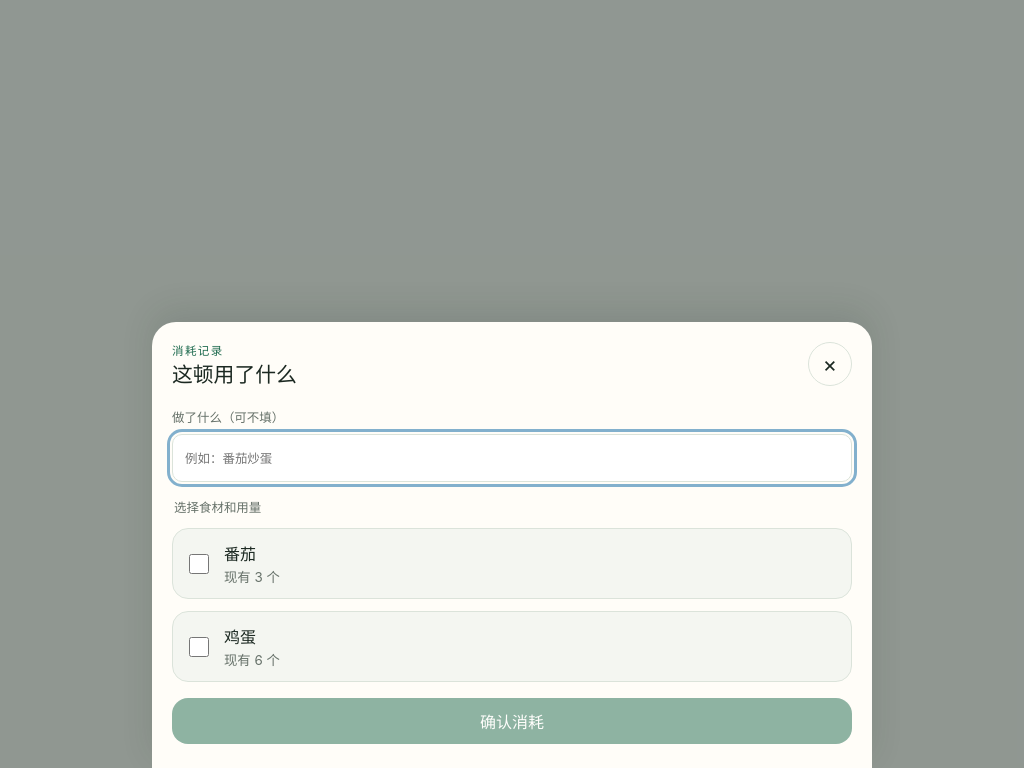
Test: ConsumeSheet › 禁用超过库存的消耗提交
Click the checkbox named "选择番茄" at (199, 564), box [189,554,209,574]
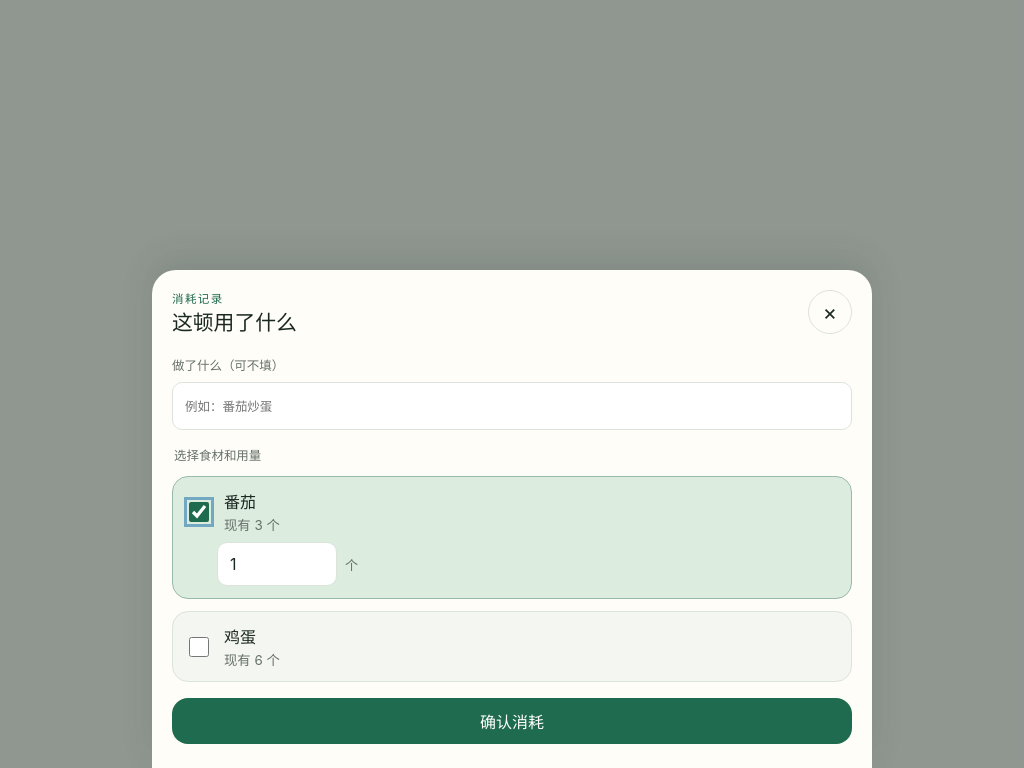
Clear the number field named "番茄用量" at (277, 564), box [217,542,337,586]
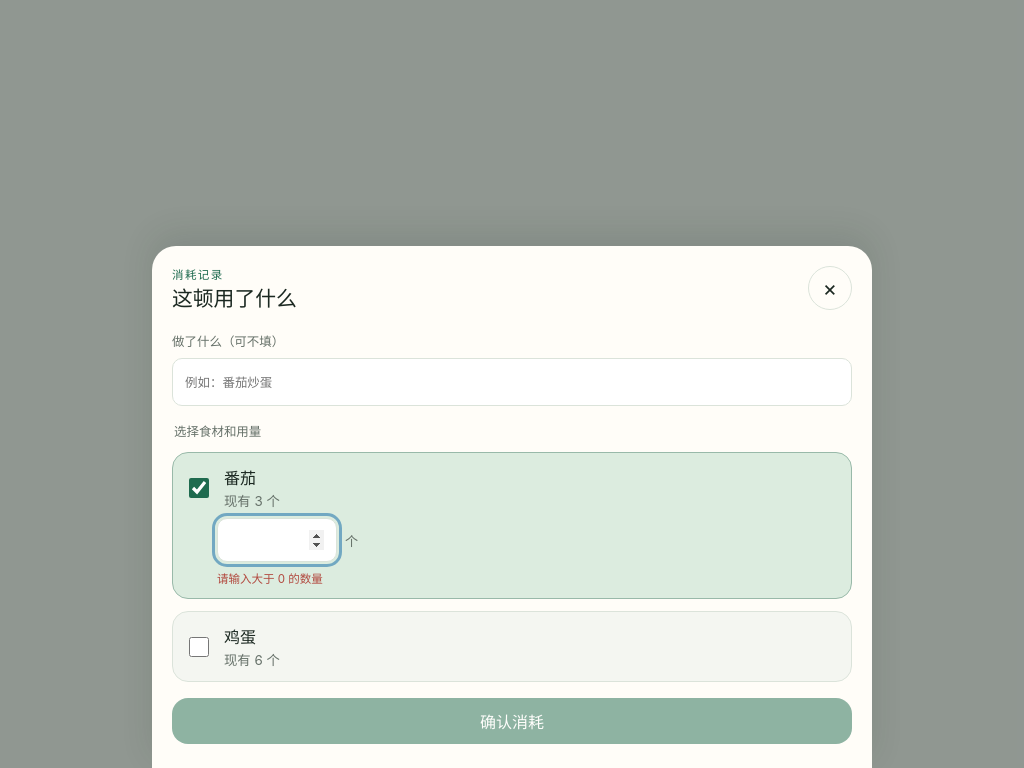
Type "99" into the number field named "番茄用量" at (277, 540), box [217,518,337,562]
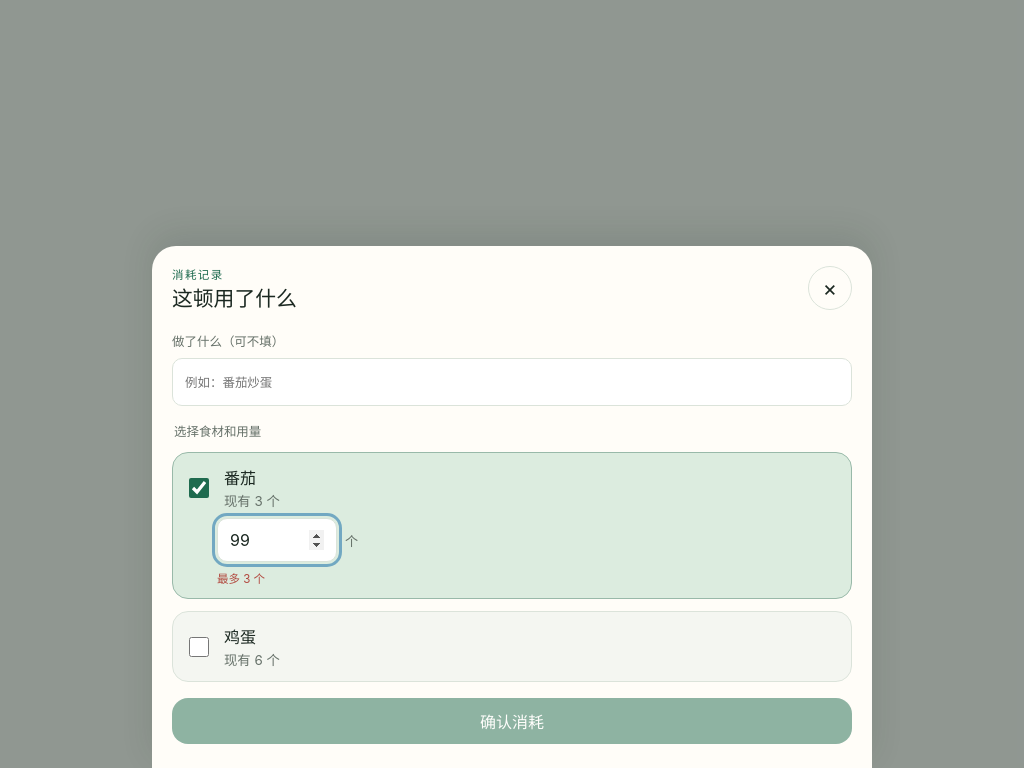
expect the button "确认消耗" is disabled: met, box [172,698,852,744]
expect the text "最多 3 个" is shown: met, box [217,572,265,586]
